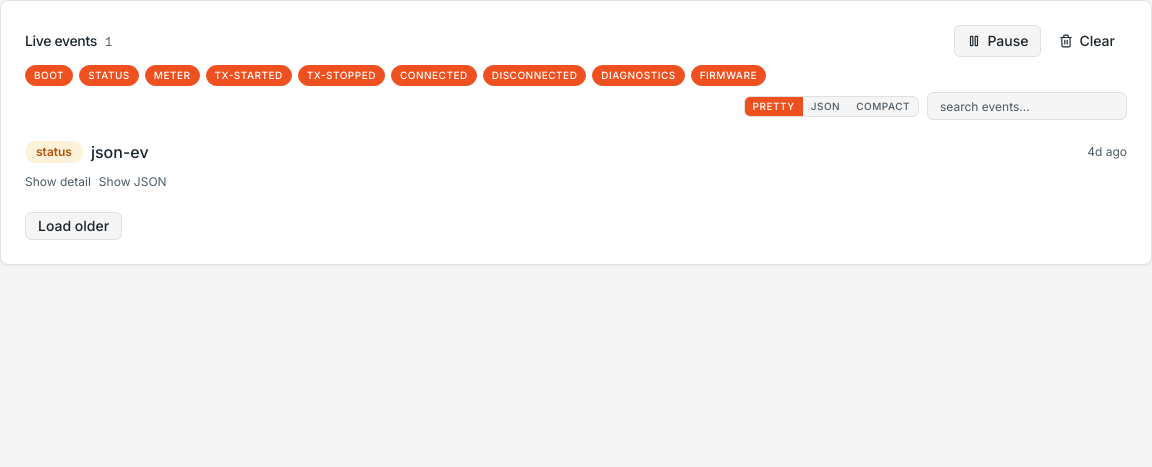
it: DeviceEventsPanel — JSON view › Show JSON renders a JSON dump of the event
This screenshot has width=1152, height=467.
Click the button with test id "device-events-toggle-json" at (133, 182), box [99, 174, 167, 190]
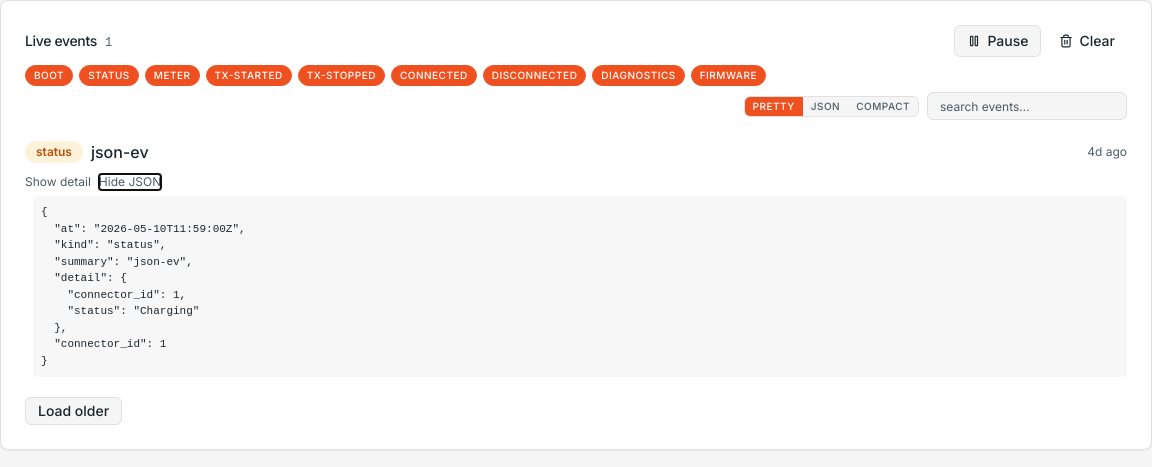
Expected: the text with test id "device-events-json" shows "\"connector_id\": 1", [41, 206, 246, 366]
Expected: the text with test id "device-events-json" shows "\"status\": \"Charging\"", [41, 206, 246, 366]
